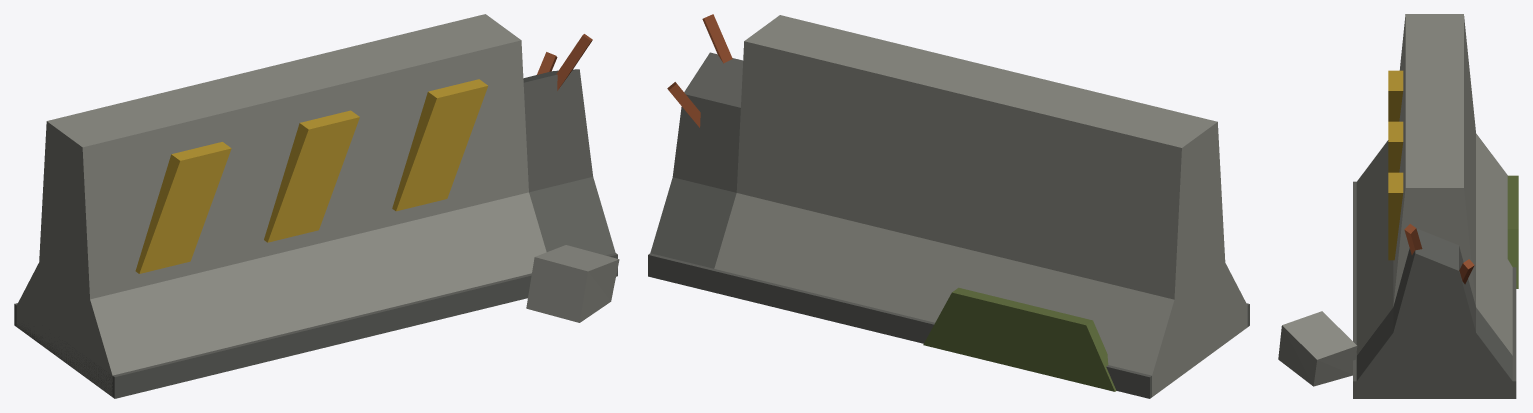
File: cover_low_barrier.glb
3 renders of one model, left to right at view 1: azimuth 30°, elevation 25°; view 2: azimuth 150°, elevation 25°; view 3: azimuth 270°, elevation 25°, orthographic. The views are drawn at different scales.
Visible parts, largest first — view 1: cover_mesh; view 2: cover_mesh; view 3: cover_mesh.
Boxes of the visible parts, left/top/right/bottom form: cover_mesh: left=14, top=14, right=619, bottom=398; cover_mesh: left=648, top=14, right=1249, bottom=398; cover_mesh: left=1278, top=14, right=1518, bottom=398.
Bounding box in the file's own units: 1.98 × 0.84 × 0.9876.
